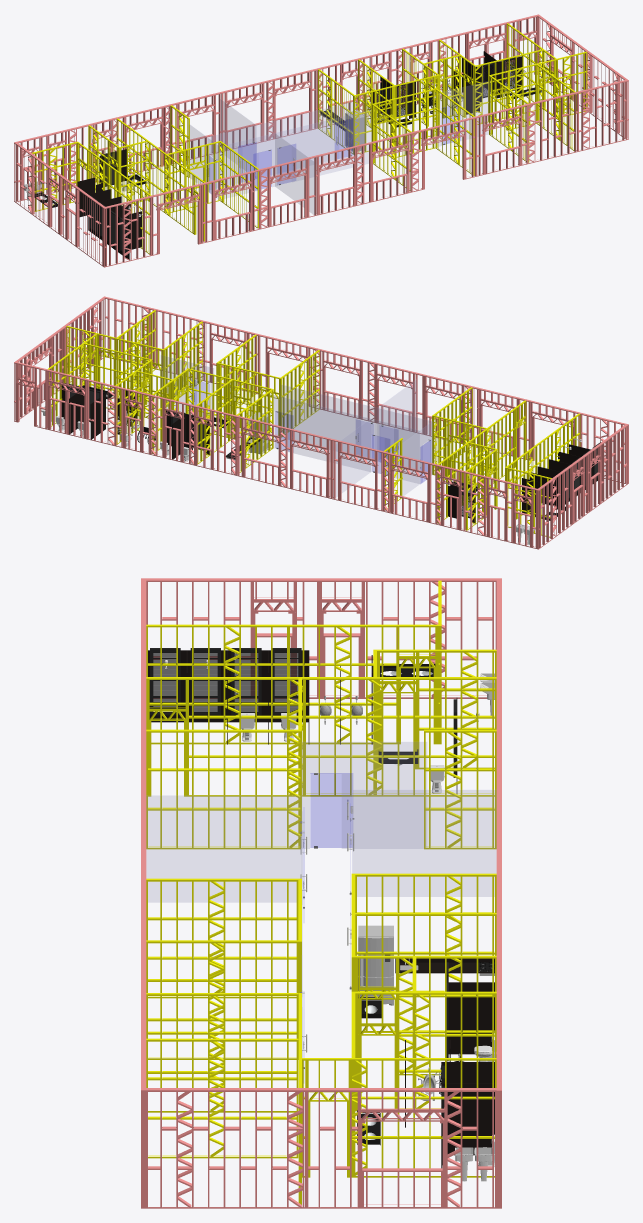
Rendered from paineis-pv1.glb.
3 renders of one model, top to bottom at view 1: azimuth 30°, elevation 25°; view 2: azimuth 150°, elevation 25°; view 3: azimuth 270°, elevation 25°, orthographic. The views are drawn at different scales.
Parts seen in each view (by area): view 1: Wall Paredes <330535 Parede de Vidro<, Wall Paredes <330827 Parede de Vidro<, FamilyInstance Modelos genéricos PV1 - 40 <318466 PV1 - 40<, FamilyInstance Modelos genéricos PV1 - 4 <307102 PV1 - 4<, FamilyInstance Modelos genéricos PV1 - 74 <311464 PV1 - 74<, FamilyInstance Portas Porta de vidro (Abrir) - Modelo 1 <330 (×4), FamilyInstance Modelos genéricos PV1 - 89 <306050 PV1 - 89<, FamilyInstance Modelos genéricos PV1 - 1 <308106 PV1 - 1<, FamilyInstance Modelos genéricos PV1 - 99 <309217 PV1 - 99<, FamilyInstance Modelos genéricos PV1 - 49 <304524 PV1 - 49<, Wall Paredes <330536 Parede de Vidro<, Wall Paredes <330852 Parede de Vidro< (+59 smaller); view 2: Wall Paredes <330827 Parede de Vidro<, Wall Paredes <330535 Parede de Vidro<, FamilyInstance Modelos genéricos PV1 - 4 <307102 PV1 - 4<, FamilyInstance Modelos genéricos PV1 - 2 <306776 PV1 - 2<, FamilyInstance Modelos genéricos PV1 - 40 <318466 PV1 - 40<, FamilyInstance Modelos genéricos PV1 - 76 <311021 PV1 - 76<, FamilyInstance Modelos genéricos PV1 - 50 <307773 PV1 - 50<, FamilyInstance Modelos genéricos PV1 - 99 <309217 PV1 - 99<, FamilyInstance Modelos genéricos PV1 - 100 <320692 PV1 - 100, FamilyInstance Modelos genéricos PV1 - 16 <317389 PV1 - 16<, FamilyInstance Modelos genéricos PV1 - 80 <304117 PV1 - 80<, FamilyInstance Modelos genéricos PV1 - 46 <319041 PV1 - 46< (+67 smaller); view 3: Wall Paredes <330536 Parede de Vidro<, Wall Paredes <330830 Parede de Vidro<, Wall Paredes <330828 Parede de Vidro<, FamilyInstance Portas Porta de alumínio (Abrir) - Modelo 1 < (×4), FamilyInstance Modelos genéricos PV1 - 99 <309217 PV1 - 99<, FamilyInstance Modelos genéricos PV1 - 100 <320692 PV1 - 100, FamilyInstance Modelos genéricos PV1 - 27 <312226 PV1 - 27<, FamilyInstance Modelos genéricos PV1 - 33 <305297 PV1 - 33<, FamilyInstance Modelos genéricos PV1 - 92 <305603 PV1 - 92<, FamilyInstance Modelos genéricos PV1 - 4 <307102 PV1 - 4<, FamilyInstance Modelos genéricos PV1 - 86 <321718 PV1 - 86<, FamilyInstance Modelos genéricos PV1 - 12 <308403 PV1 - 12< (+23 smaller).
Part boxes in pixels (box(x1,y1,x2,y2)): Wall Paredes <330535 Parede de Vidro<: box(220, 110, 371, 198); Wall Paredes <330827 Parede de Vidro<: box(208, 102, 353, 189); FamilyInstance Modelos genéricos PV1 - 40 <318466 PV1 - 40<: box(221, 68, 317, 150); FamilyInstance Modelos genéricos PV1 - 4 <307102 PV1 - 4<: box(14, 142, 62, 234); FamilyInstance Modelos genéricos PV1 - 74 <311464 PV1 - 74<: box(526, 92, 578, 163); FamilyInstance Portas Porta de vidro (Abrir) - Modelo 1 <330 (×4): box(238, 118, 352, 189); FamilyInstance Modelos genéricos PV1 - 89 <306050 PV1 - 89<: box(577, 79, 628, 151); FamilyInstance Modelos genéricos PV1 - 1 <308106 PV1 - 1<: box(103, 196, 151, 267); FamilyInstance Modelos genéricos PV1 - 99 <309217 PV1 - 99<: box(585, 50, 627, 138); FamilyInstance Modelos genéricos PV1 - 49 <304524 PV1 - 49<: box(410, 116, 476, 192); Wall Paredes <330536 Parede de Vidro<: box(275, 133, 314, 214); Wall Paredes <330852 Parede de Vidro<: box(439, 81, 490, 146); Wall Paredes <330827 Parede de Vidro<: box(273, 395, 419, 483); Wall Paredes <330535 Parede de Vidro<: box(280, 385, 431, 471); FamilyInstance Modelos genéricos PV1 - 4 <307102 PV1 - 4<: box(536, 456, 584, 549); FamilyInstance Modelos genéricos PV1 - 2 <306776 PV1 - 2<: box(582, 425, 627, 515); FamilyInstance Modelos genéricos PV1 - 40 <318466 PV1 - 40<: box(236, 415, 332, 498); FamilyInstance Modelos genéricos PV1 - 76 <311021 PV1 - 76<: box(46, 369, 116, 445); FamilyInstance Modelos genéricos PV1 - 50 <307773 PV1 - 50<: box(280, 350, 319, 436); FamilyInstance Modelos genéricos PV1 - 99 <309217 PV1 - 99<: box(62, 297, 105, 382); FamilyInstance Modelos genéricos PV1 - 100 <320692 PV1 - 100: box(15, 327, 65, 419); FamilyInstance Modelos genéricos PV1 - 16 <317389 PV1 - 16<: box(436, 464, 485, 536); FamilyInstance Modelos genéricos PV1 - 80 <304117 PV1 - 80<: box(163, 321, 202, 407); FamilyInstance Modelos genéricos PV1 - 46 <319041 PV1 - 46<: box(189, 404, 237, 475); Wall Paredes <330536 Parede de Vidro<: box(146, 795, 301, 902); Wall Paredes <330830 Parede de Vidro<: box(353, 790, 496, 896); Wall Paredes <330828 Parede de Vidro<: box(302, 742, 426, 848); FamilyInstance Portas Porta de alumínio (Abrir) - Modelo 1 < (×4): box(150, 648, 301, 715); FamilyInstance Modelos genéricos PV1 - 99 <309217 PV1 - 99<: box(146, 1088, 306, 1208); FamilyInstance Modelos genéricos PV1 - 100 <320692 PV1 - 100: box(306, 1088, 496, 1208); FamilyInstance Modelos genéricos PV1 - 27 <312226 PV1 - 27<: box(304, 677, 496, 796); FamilyInstance Modelos genéricos PV1 - 33 <305297 PV1 - 33<: box(146, 729, 301, 849); FamilyInstance Modelos genéricos PV1 - 92 <305603 PV1 - 92<: box(302, 1058, 496, 1177); FamilyInstance Modelos genéricos PV1 - 4 <307102 PV1 - 4<: box(318, 578, 501, 698); FamilyInstance Modelos genéricos PV1 - 86 <321718 PV1 - 86<: box(146, 1038, 298, 1158); FamilyInstance Modelos genéricos PV1 - 12 <308403 PV1 - 12<: box(288, 624, 441, 744).
Bounding box in the file's own units: 30.67 × 3.3 × 9.14.
